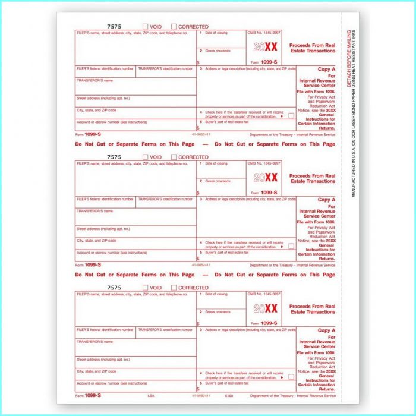checkbox: (141, 283, 149, 291), (169, 283, 177, 291), (287, 111, 295, 118), (287, 242, 295, 249), (287, 373, 295, 380), (141, 23, 149, 30), (170, 23, 178, 30)
textbox: (73, 158, 198, 199), (73, 289, 198, 329), (73, 28, 198, 67), (194, 194, 298, 239), (194, 324, 298, 369), (195, 63, 298, 108), (73, 75, 198, 97), (73, 206, 198, 228), (74, 336, 198, 357), (73, 247, 197, 263), (73, 354, 197, 370), (73, 377, 197, 393), (74, 223, 197, 239), (74, 365, 197, 381), (73, 93, 198, 108), (73, 116, 198, 131), (73, 235, 198, 250), (73, 105, 198, 119), (194, 117, 298, 133), (193, 379, 297, 393), (194, 247, 297, 261), (193, 289, 248, 311), (193, 307, 248, 329), (194, 158, 249, 179), (195, 28, 248, 49), (194, 177, 249, 197), (196, 46, 248, 67), (73, 194, 137, 210), (73, 324, 137, 340), (134, 194, 198, 209), (134, 324, 198, 339), (73, 64, 137, 78), (134, 64, 198, 78)
